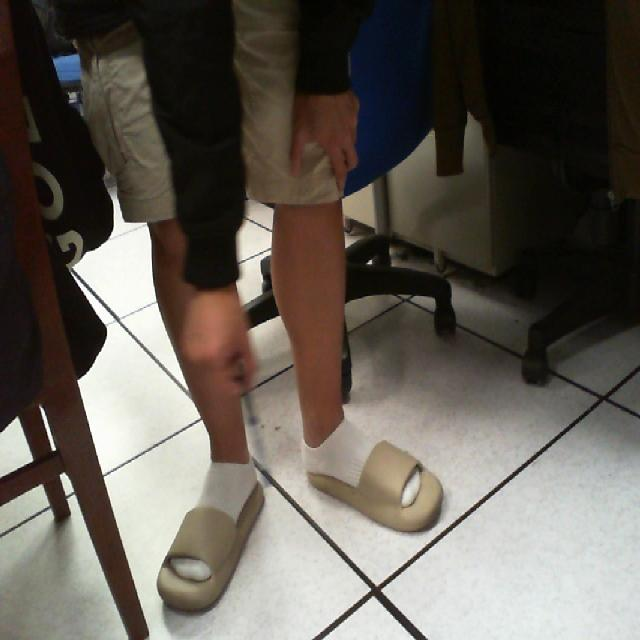Pen: (226, 349, 280, 489)
